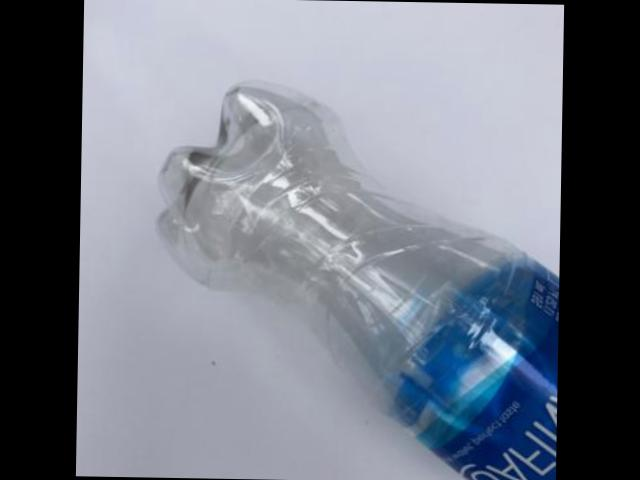plastic: (156, 81, 559, 480)
